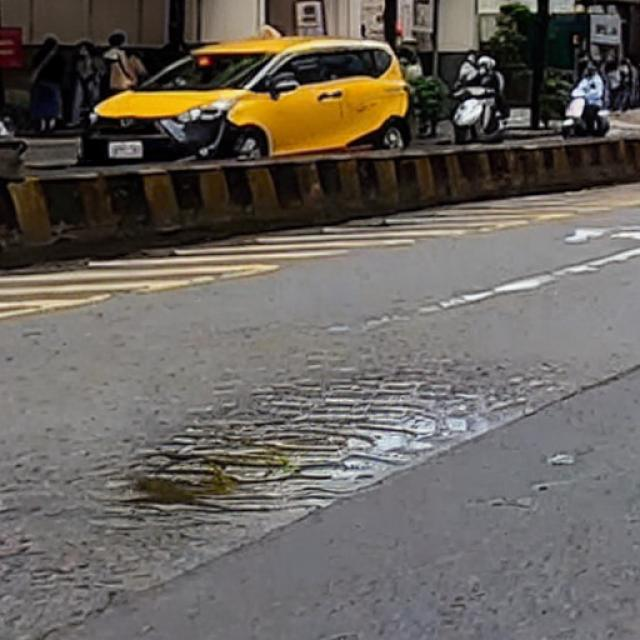puddle: (121, 377, 535, 508)
